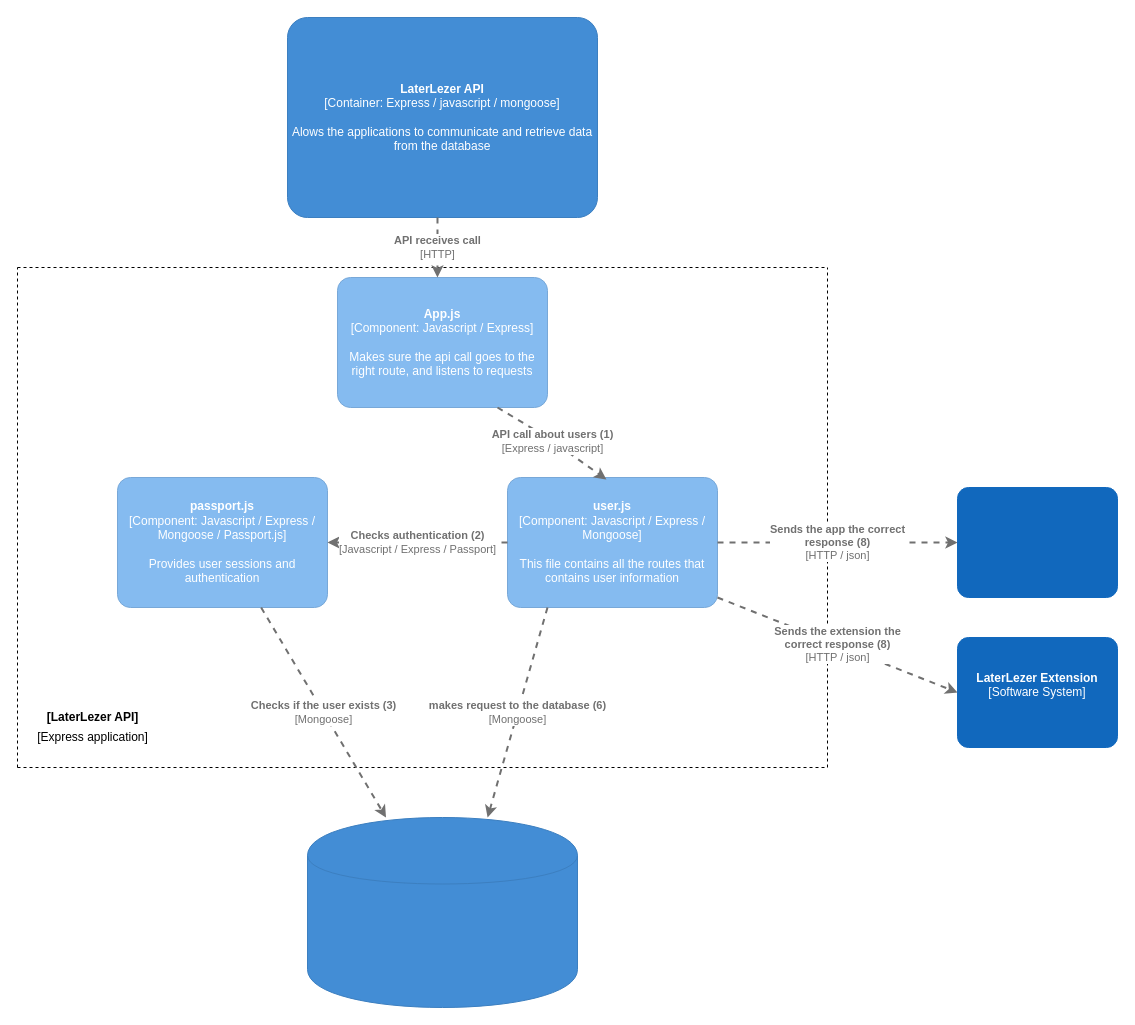
Some shapes in this 1135 by 1025 pixel diagram are drawn without their labels. The shapes that lost their labels are listed below. From the top down, each one's centre as x and y in pixels, then its label:
pixel 1037 542: LaterLezer App [Software System]
pixel 442 912: Database [Container: Technology] Description
